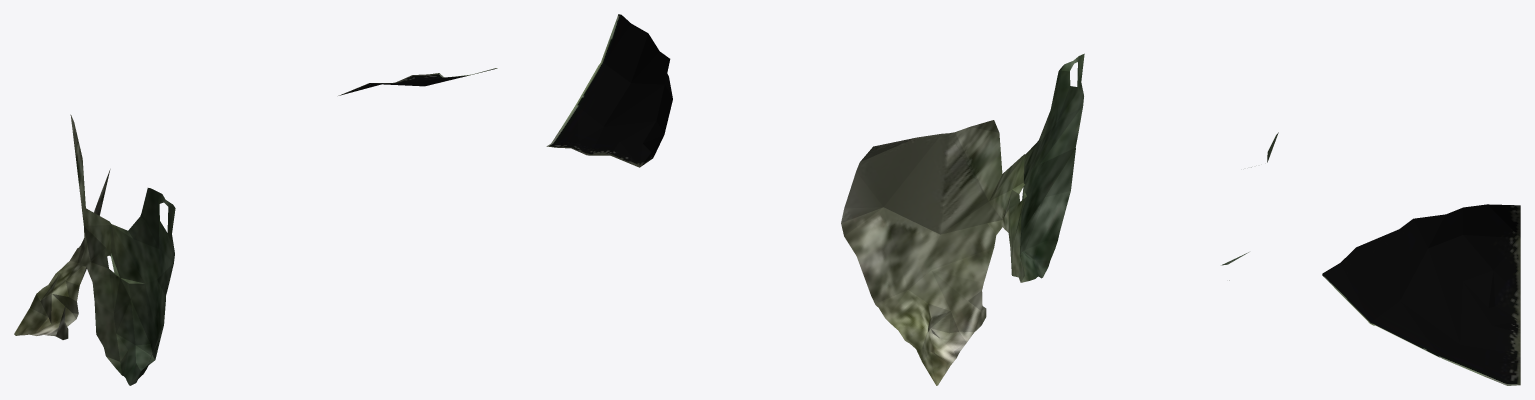
The picture shows the model from 3 angles, left to right: view 1: azimuth 30°, elevation 25°; view 2: azimuth 150°, elevation 25°; view 3: azimuth 270°, elevation 25°; orthographic projection. The views are drawn at different scales.
Bounding box in the file's own units: 5.9 × 3.25 × 3.88.
1 material, 1 textured.
